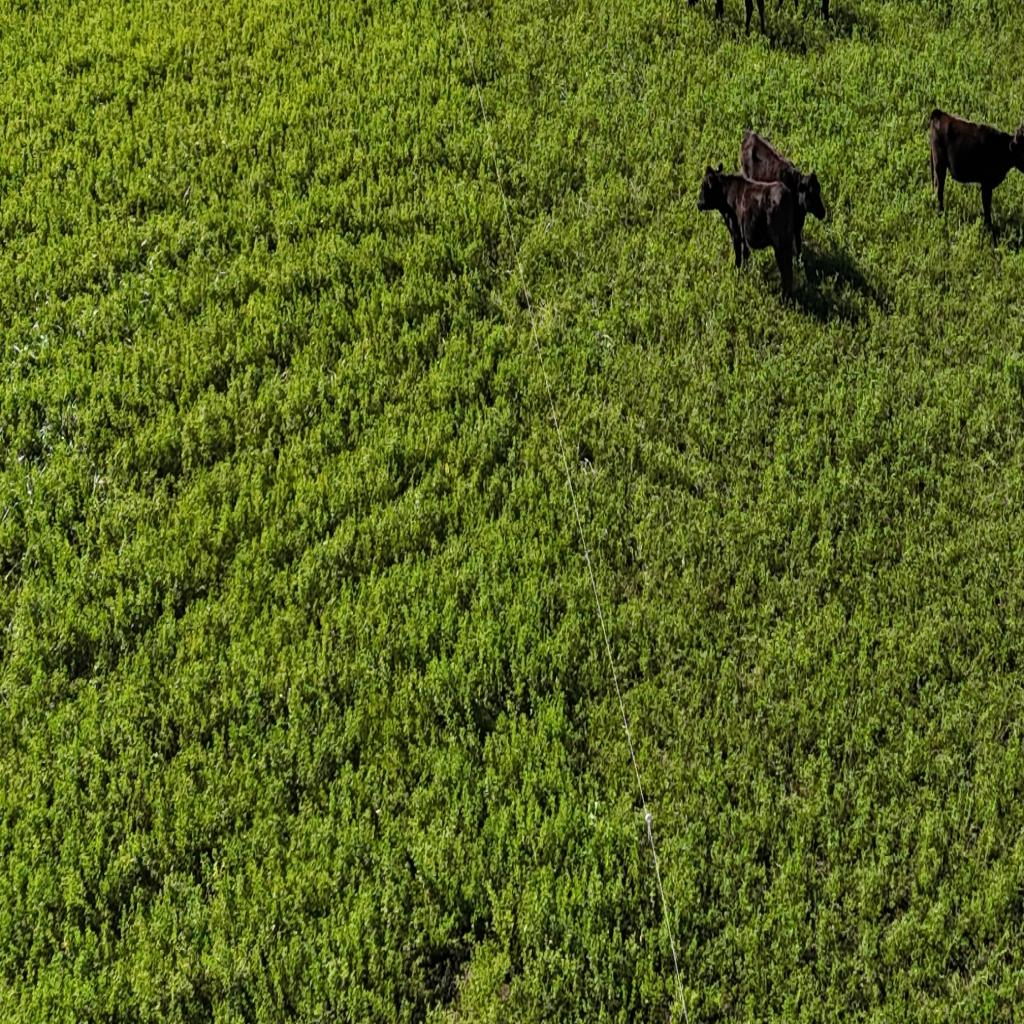cow: (922, 88, 1023, 316), (687, 131, 789, 305), (728, 110, 828, 260)
